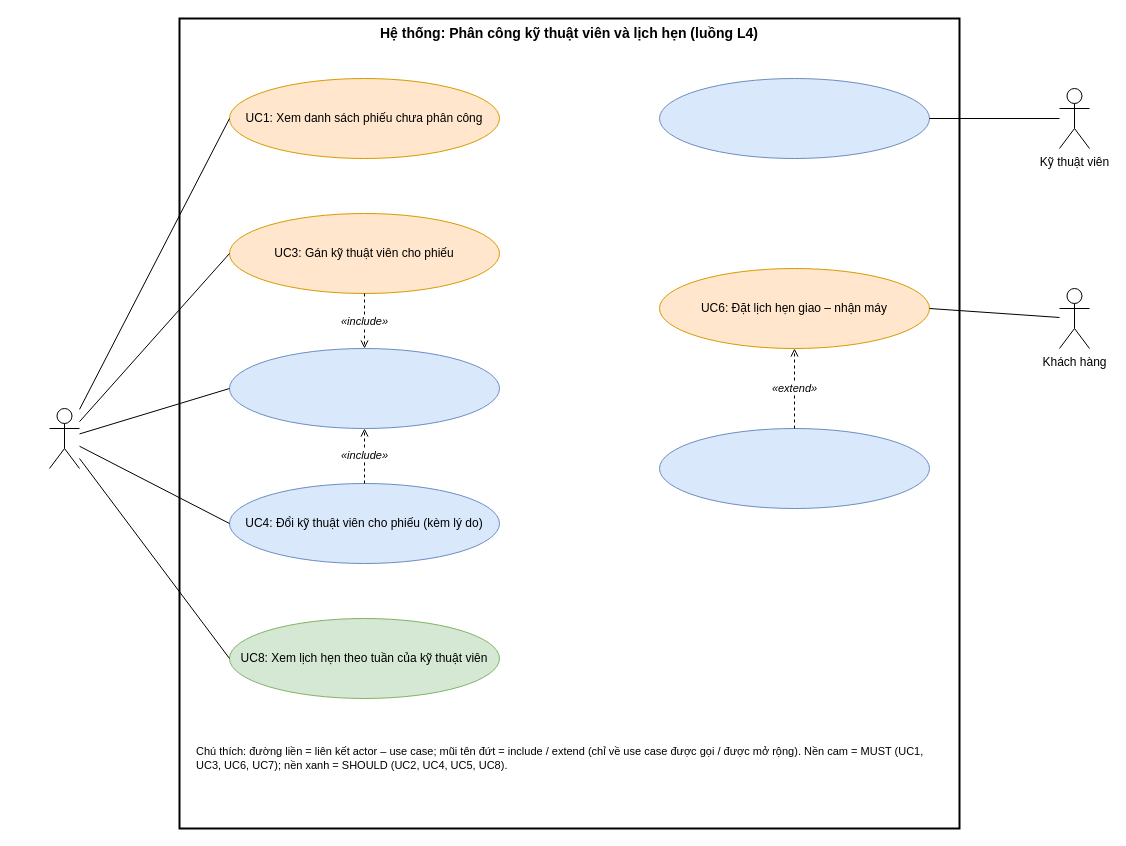
The diagram is 1126 pixels wide and 846 high, and some of its shapes have lost their labels. The box of each missing label's shape, as (x1, y1, x2, y2) in pixels:
Quản lý trung tâm: (48, 408, 80, 468)
UC2: Xem kỹ thuật viên phù hợp và khối lượng công việc: (228, 348, 500, 428)
UC5: Xem phiếu và lịch làm việc được giao: (658, 78, 930, 158)
UC7: Chọn khung giờ trống thay thế khi trùng lịch: (658, 428, 930, 508)
